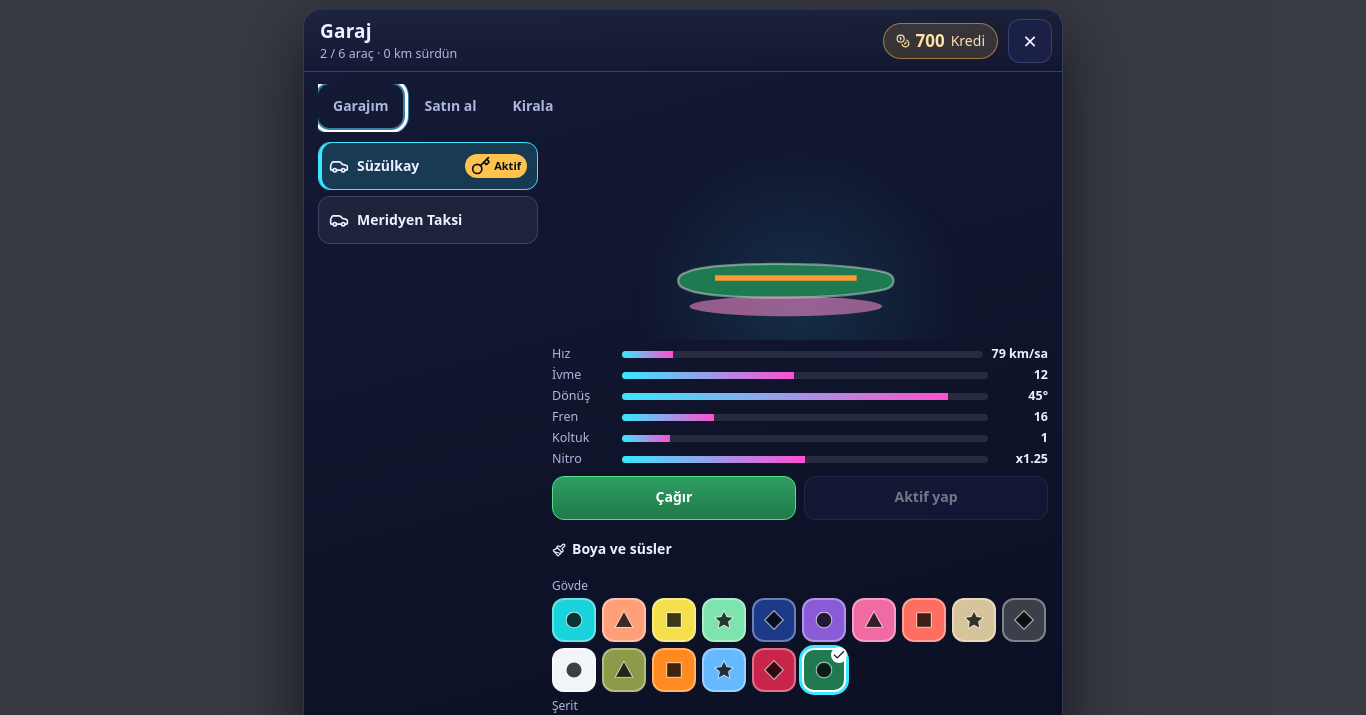
it: GaragePanel: Satın al ve Kirala › katalog: fiyat Kredi, sahip olunan araç kapalı, kilitli neden metni, yetersiz Kredi
Click the tab with test id "tab-buy": (450, 106) [409, 84, 492, 128]
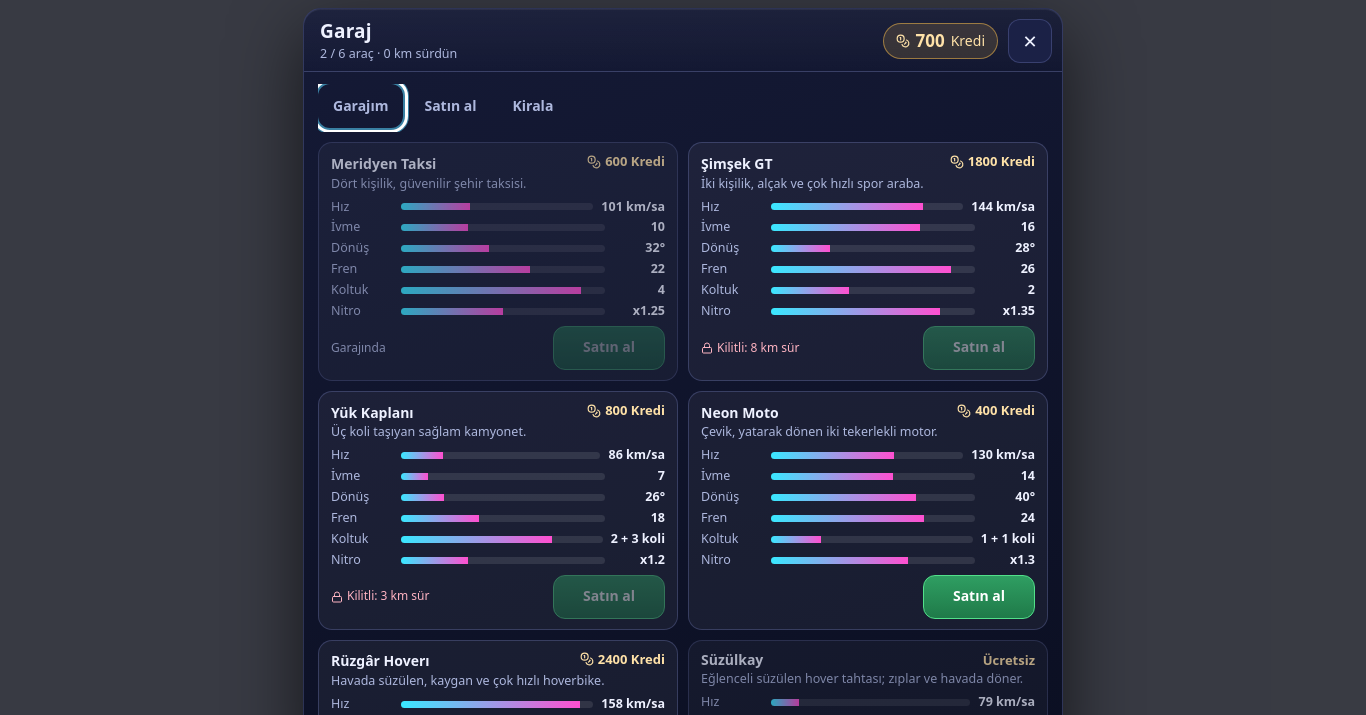
expect the button with test id "buy-taksi" is disabled: met, box [553, 326, 665, 370]
expect the text "Kilitli: 8 km sür" is shown: met, box [701, 340, 799, 356]
expect the button with test id "buy-spor" is disabled: met, box [923, 326, 1035, 370]
